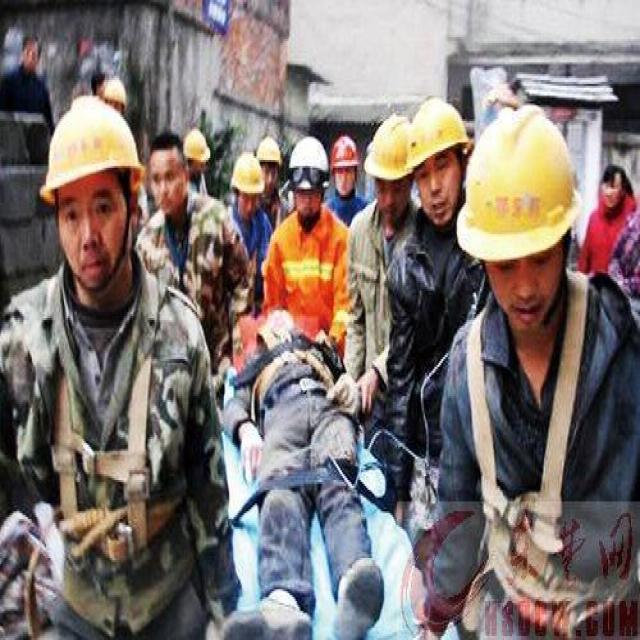boots: (333, 557, 383, 639), (259, 595, 312, 639)
gloves: (236, 420, 264, 483), (326, 373, 361, 417)
hard-hat: (456, 105, 583, 262), (38, 95, 145, 205), (407, 97, 469, 170), (362, 114, 414, 181), (288, 135, 328, 173), (230, 153, 265, 194), (328, 134, 360, 170)
person: (0, 95, 240, 639), (423, 104, 640, 639), (221, 308, 385, 639), (381, 96, 491, 544), (133, 132, 253, 390), (260, 136, 351, 360), (577, 164, 638, 278)
ppe-suit: (428, 269, 639, 638), (262, 205, 353, 327)
